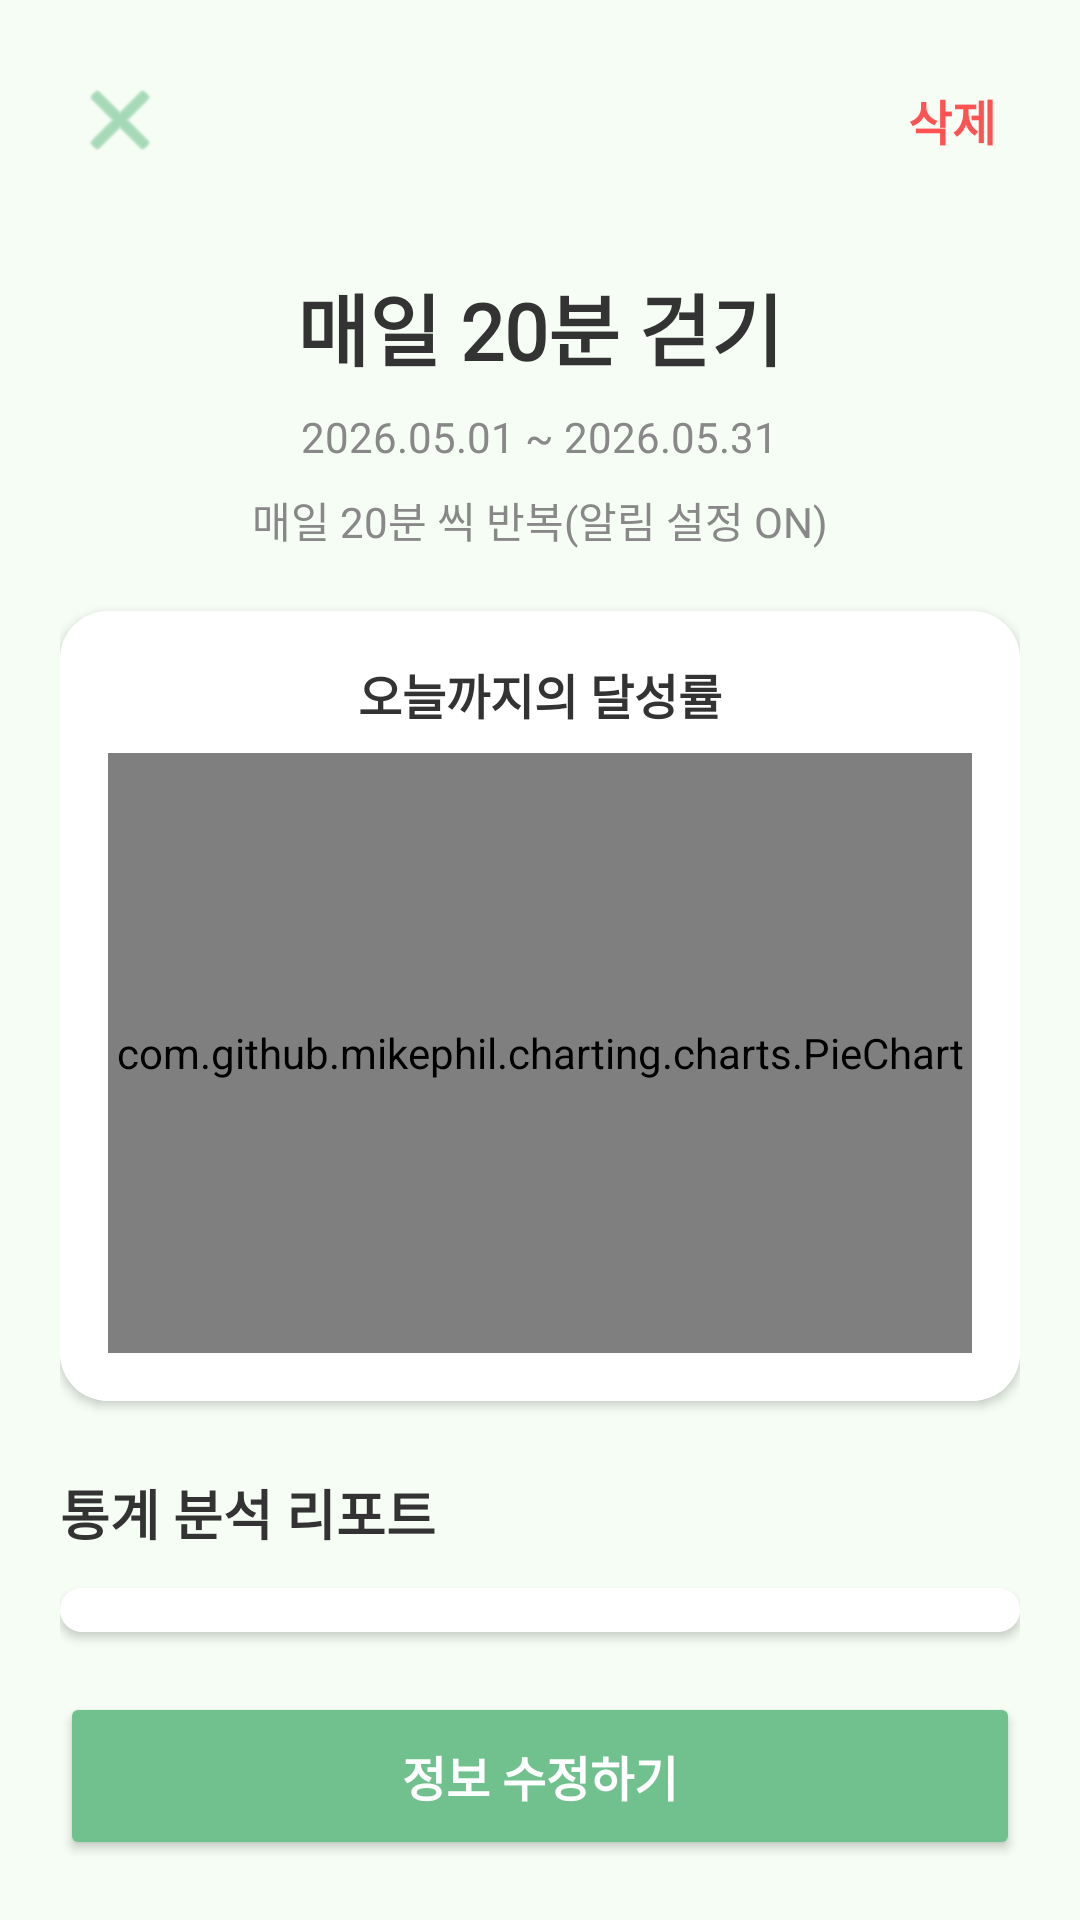

Icon bounding boxes for this 1080x1920 phone screenshot, format (x1, y1, x2, y2):
close clear cancel: (90, 90, 150, 150)
